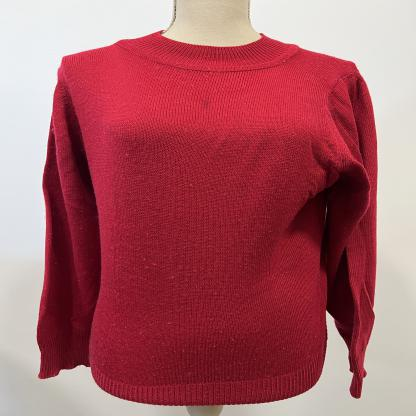stain: (197, 97, 215, 112)
